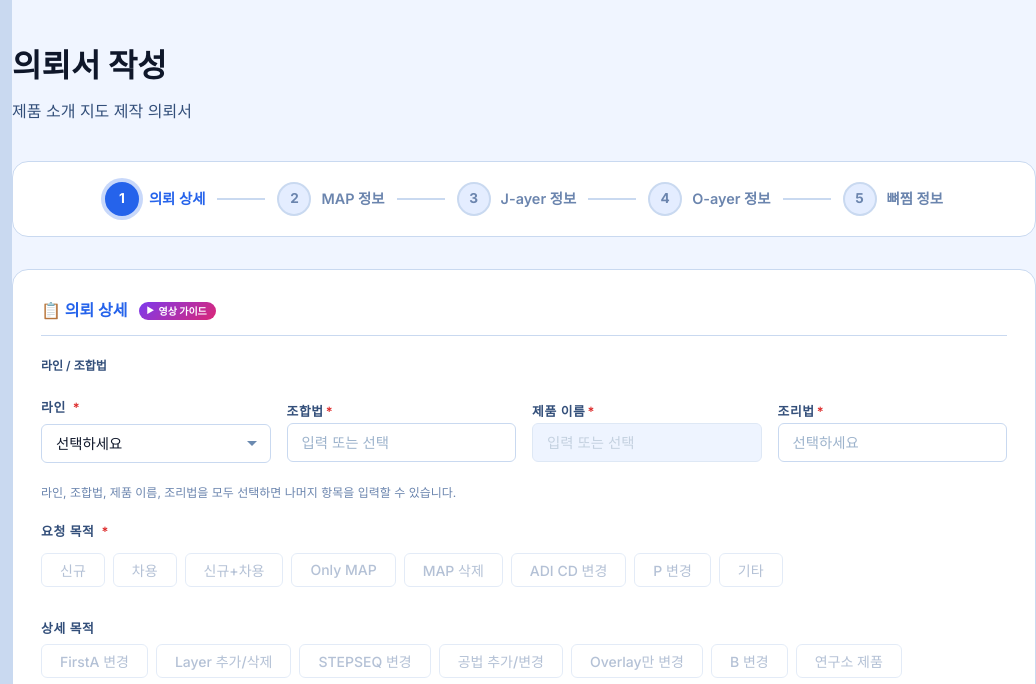
Test: ADI CD 변경 — 행 단위 미등록 선택 › 미등록 체크 시 STEP_ID/STEP_DESC 입력칸이 사라지고 "미등록"이 표시된다
Select "라인1" in the 1st dropdown named "line" at (156, 444), box top-left (41, 424), bottom-right (270, 463)
Type "조합법A" into the 1st field with placeholder "입력 또는 선택" at (401, 443), box top-left (286, 423), bottom-right (516, 462)
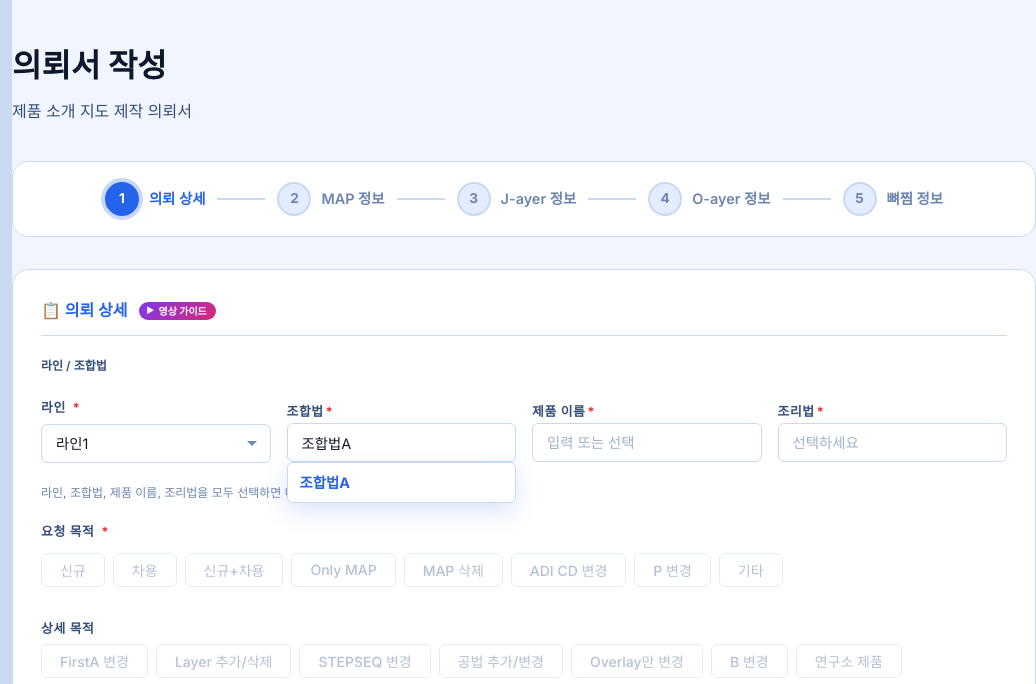
Type "제품A" into the field with placeholder "입력 또는 선택" at (647, 443), box top-left (532, 423), bottom-right (762, 462)
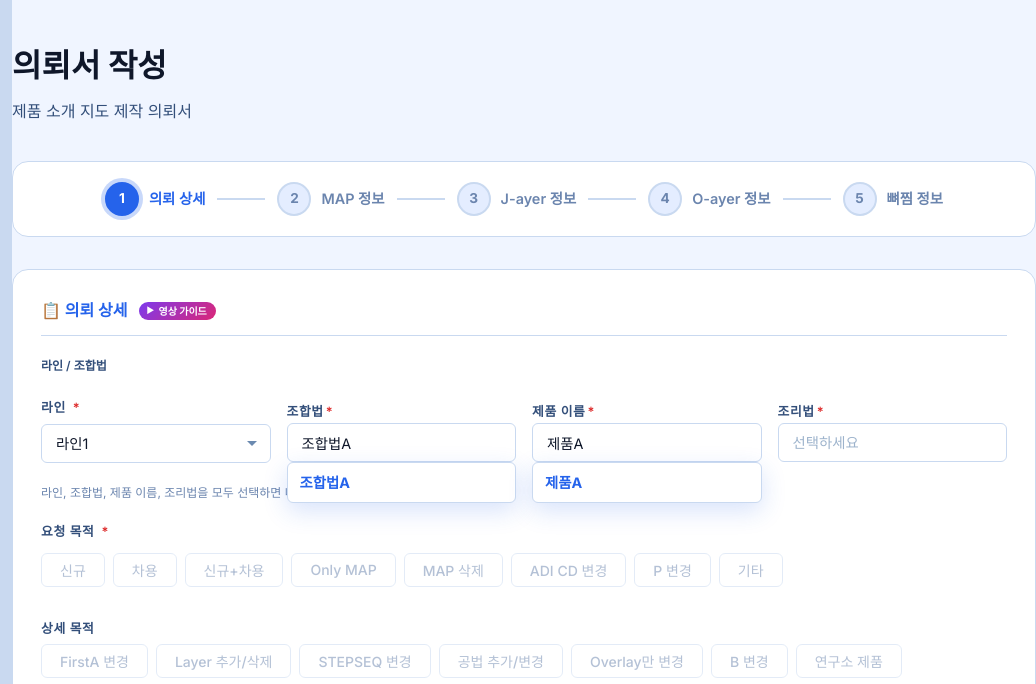
Type "PROC_X1" into the 1st field with placeholder "선택하세요" at (892, 443), box top-left (778, 423), bottom-right (1007, 462)
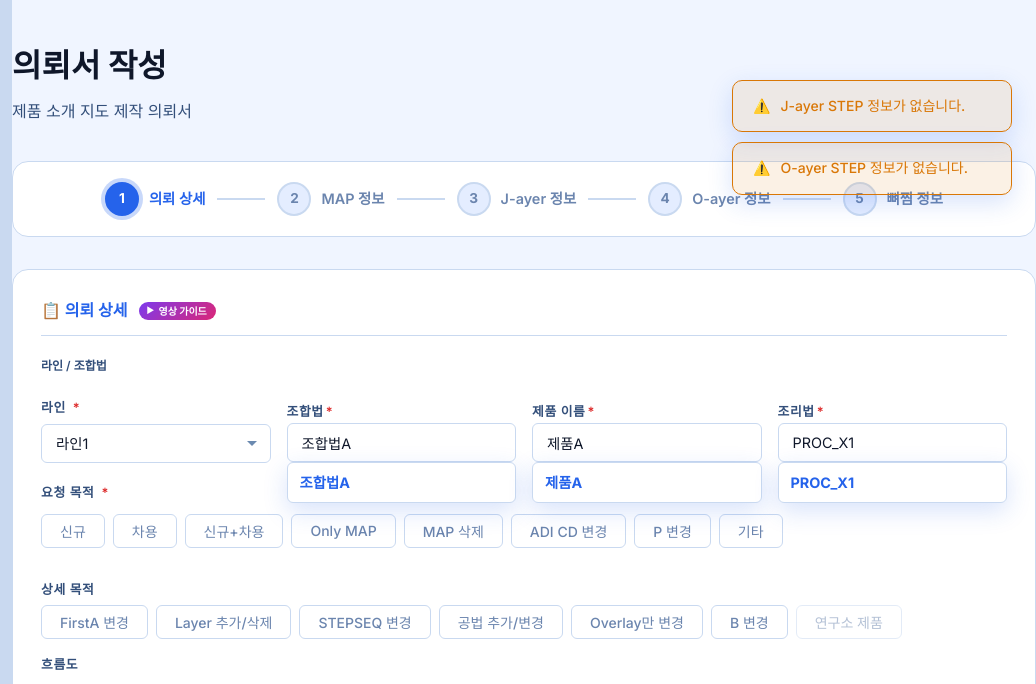
Click the button "기타" at (751, 530), box top-left (719, 514), bottom-right (783, 548)
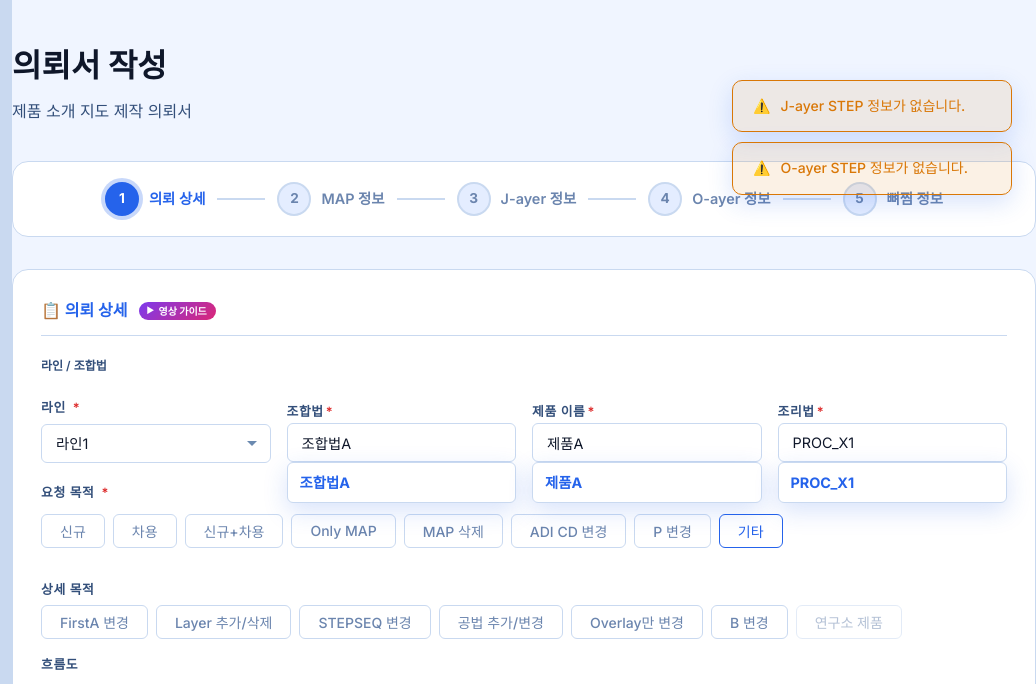
Click the button "ADI CD 변경" at (569, 530), box top-left (511, 514), bottom-right (626, 548)
(page scrolled)
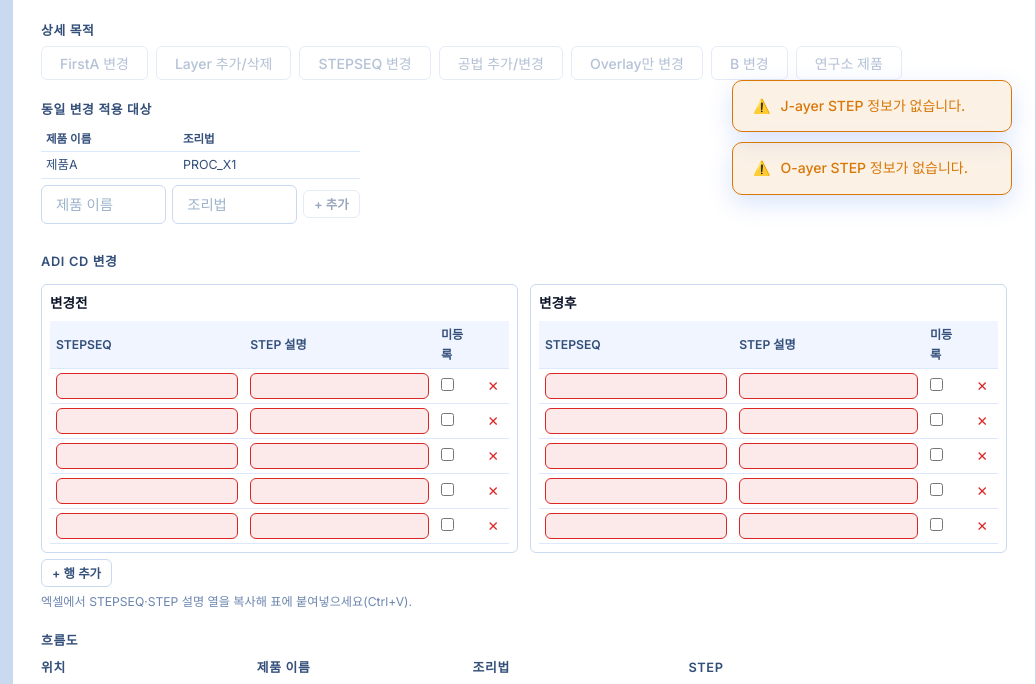
Click the 1st checkbox named "미등록" at (447, 384), box top-left (441, 378), bottom-right (454, 390)
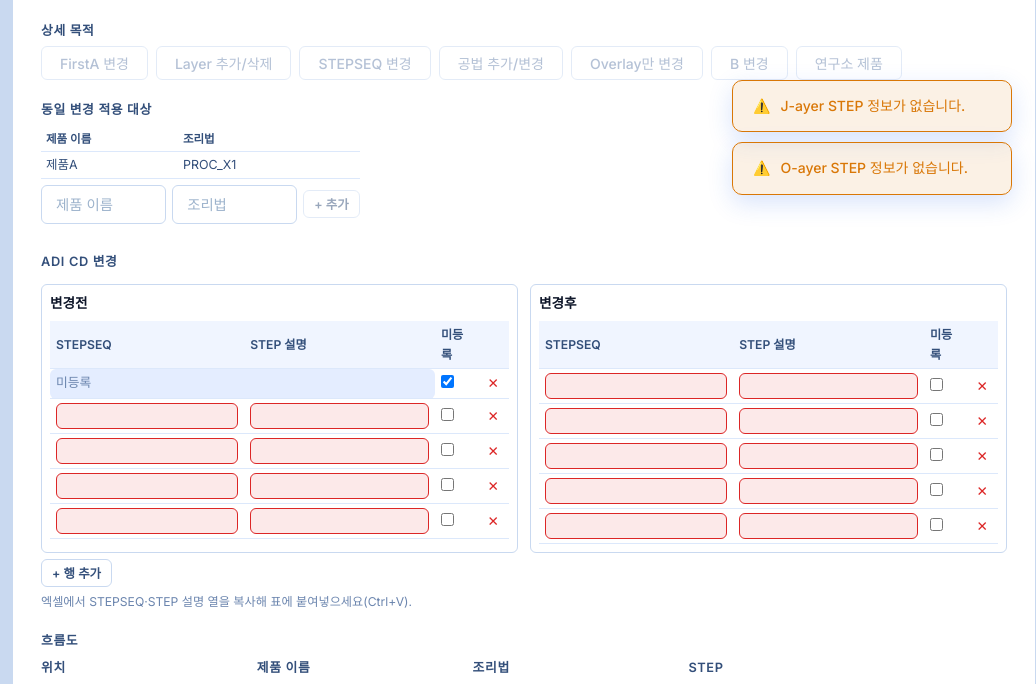
Check: the number of fields with class "adi-cd-cell" is 18
Check: the cell with class "adi-cd-unreg-cell" is shown, box top-left (50, 368), bottom-right (435, 398)
Check: the cell with class "adi-cd-unreg-cell" reads "미등록", box top-left (56, 375), bottom-right (91, 390)
